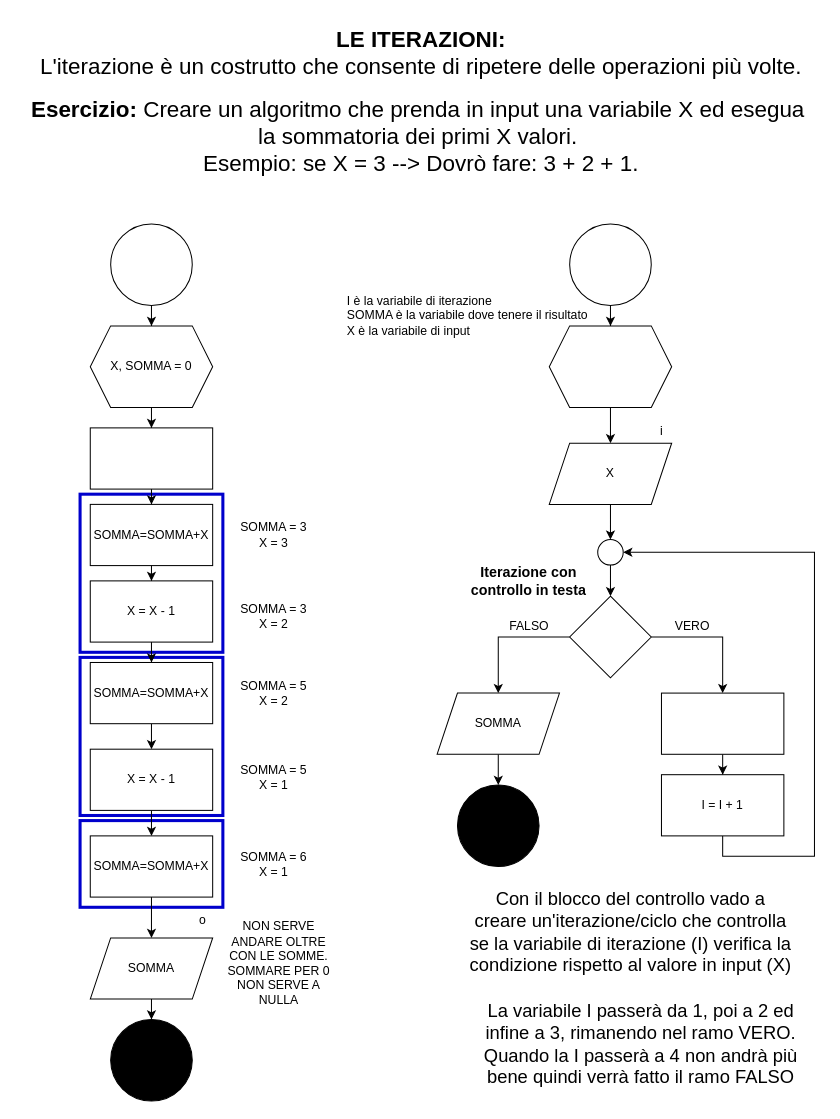
This 840x1119 diagram has some shape labels left out. The centre of each missing label's shape, as x and y in pixels:
"I<=X" belongs at [610,636].
"SOMMA=SOMMA+I" belongs at [722,723].
"X = 3" belongs at [151,458].
"X, SOMMA = 0, I = 1" belongs at [610,366].
